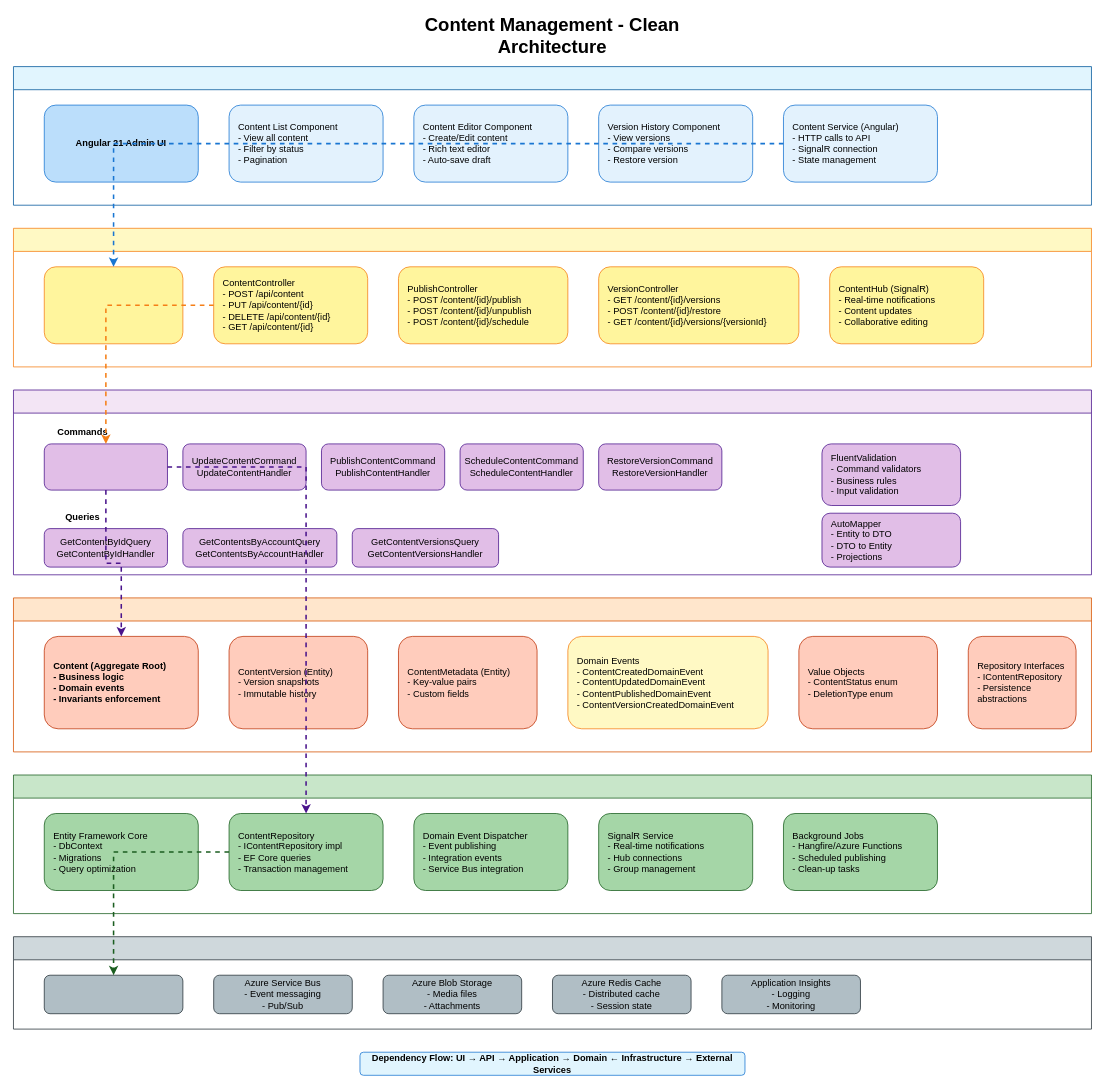
Some shapes in this 1105 by 1089 pixel diagram are drawn without their labels. Here are the shapes that lost their labels. From the top down, the box of each, then its label:
(13, 66, 1091, 205): Presentation Layer
(44, 266, 183, 344): API Gateway - JWT Authentication - Rate Limiting - Request Routing
(13, 228, 1091, 367): API Layer (.NET Core)
(44, 443, 167, 490): CreateContentCommand CreateContentHandler
(13, 389, 1091, 575): Application Layer (MediatR)
(13, 597, 1091, 752): Domain Layer
(13, 774, 1091, 914): Infrastructure Layer
(44, 974, 183, 1014): Azure SQL Database - Content storage - Relational data
(13, 936, 1091, 1029): External Services
